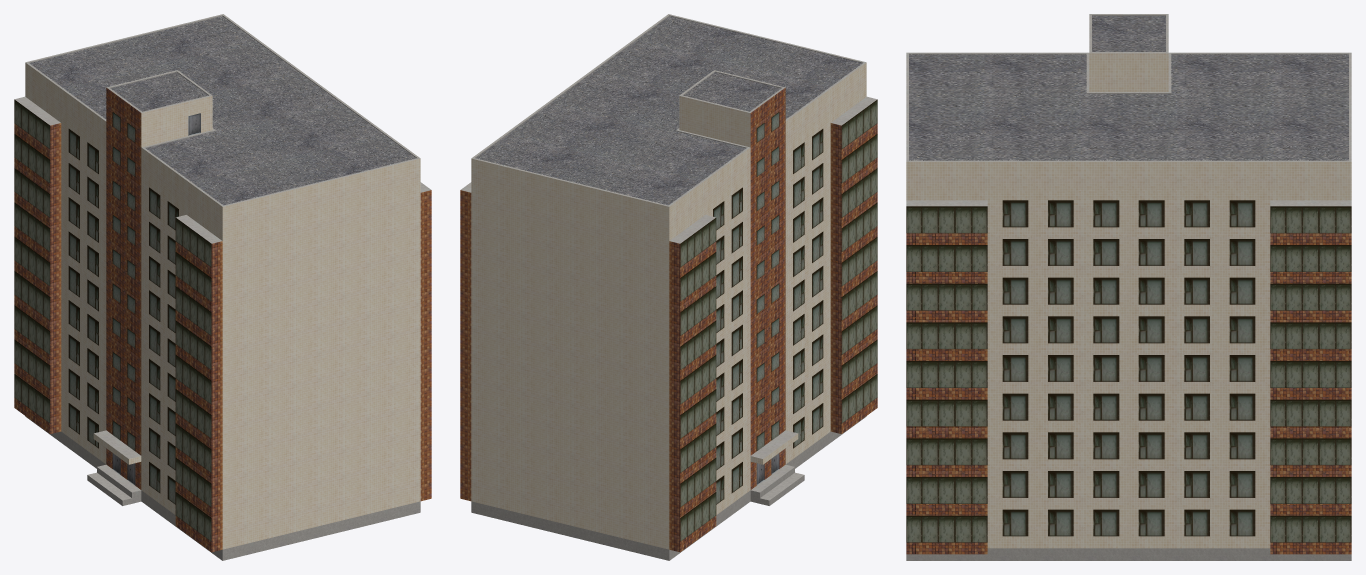
Rendered from bPanel9.glb.
3 views of the same model, side by side, from view 1: azimuth 30°, elevation 25°; view 2: azimuth 150°, elevation 25°; view 3: azimuth 270°, elevation 25° (orthographic). The views are drawn at different scales.
Visible parts, largest first — view 1: Cube.016_Material.001_0, Cube.016_Material.008_0, Cube.016_Material.009_0, Cube.016_Material.011_0, Cube.016_Material.007_0, Cube.016_Material.010_0; view 2: Cube.016_Material.001_0, Cube.016_Material.008_0, Cube.016_Material.009_0, Cube.016_Material.011_0, Cube.016_Material.007_0; view 3: Cube.016_Material.001_0, Cube.016_Material.011_0, Cube.016_Material.008_0, Cube.016_Material.009_0, Cube.016_Material.007_0.
Boxes of the visible parts, x1,y1,x2,y2 form: Cube.016_Material.001_0: [25, 62, 420, 549]; Cube.016_Material.008_0: [30, 16, 416, 205]; Cube.016_Material.009_0: [14, 87, 431, 552]; Cube.016_Material.011_0: [14, 99, 211, 541]; Cube.016_Material.007_0: [15, 14, 430, 560]; Cube.016_Material.010_0: [112, 113, 200, 485]; Cube.016_Material.001_0: [471, 62, 866, 549]; Cube.016_Material.008_0: [475, 16, 861, 205]; Cube.016_Material.009_0: [460, 87, 877, 552]; Cube.016_Material.011_0: [680, 99, 877, 541]; Cube.016_Material.007_0: [461, 14, 876, 560]; Cube.016_Material.001_0: [906, 53, 1351, 548]; Cube.016_Material.011_0: [906, 200, 1351, 542]; Cube.016_Material.008_0: [909, 16, 1348, 160]; Cube.016_Material.009_0: [906, 233, 1351, 554]; Cube.016_Material.007_0: [906, 14, 1351, 560].
Bounding box in the file's own units: 19.75 × 32.16 × 29.62.
Materials: 6 (6 with a texture image).
